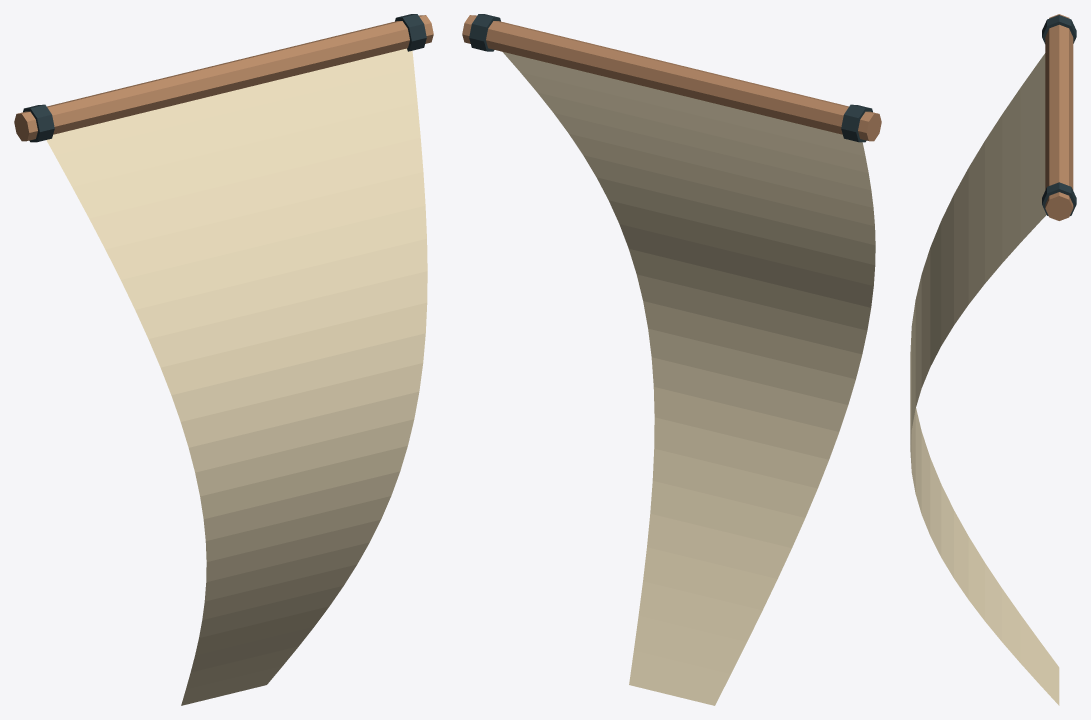
Rendered from main_sail_streamer.glb.
3 renders of one model, left to right at view 1: azimuth 30°, elevation 25°; view 2: azimuth 150°, elevation 25°; view 3: azimuth 270°, elevation 25°, orthographic. The views are drawn at different scales.
Parts seen in each view (by area): view 1: main_sail cloth streamer, main_sail yard.004, Yard iron collar.008, Yard iron collar.009; view 2: main_sail cloth streamer, main_sail yard.004, Yard iron collar.008, Yard iron collar.009; view 3: main_sail cloth streamer, main_sail yard.004, Yard iron collar.009, Yard iron collar.008.
Part boxes in pixels (x1,y1,x2,y2): main_sail cloth streamer: (46,48,427,705); main_sail yard.004: (14,15,433,141); Yard iron collar.008: (23,104,54,142); Yard iron collar.009: (395,14,426,51); main_sail cloth streamer: (503,52,875,705); main_sail yard.004: (462,15,881,141); Yard iron collar.008: (841,104,872,142); Yard iron collar.009: (469,14,500,51); main_sail cloth streamer: (910,53,1059,705); main_sail yard.004: (1045,14,1073,220); Yard iron collar.009: (1042,182,1076,215); Yard iron collar.008: (1042,15,1076,43).
Bounding box in the file's own units: 3.24 × 4.85 × 1.25.
